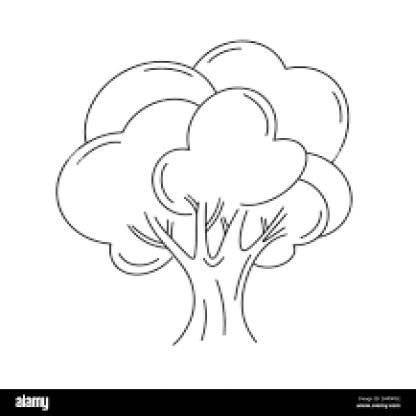branch_cut: (118, 194, 290, 260)
crown_cloud: (54, 38, 357, 278)
trunk_bark: (179, 282, 256, 328)
